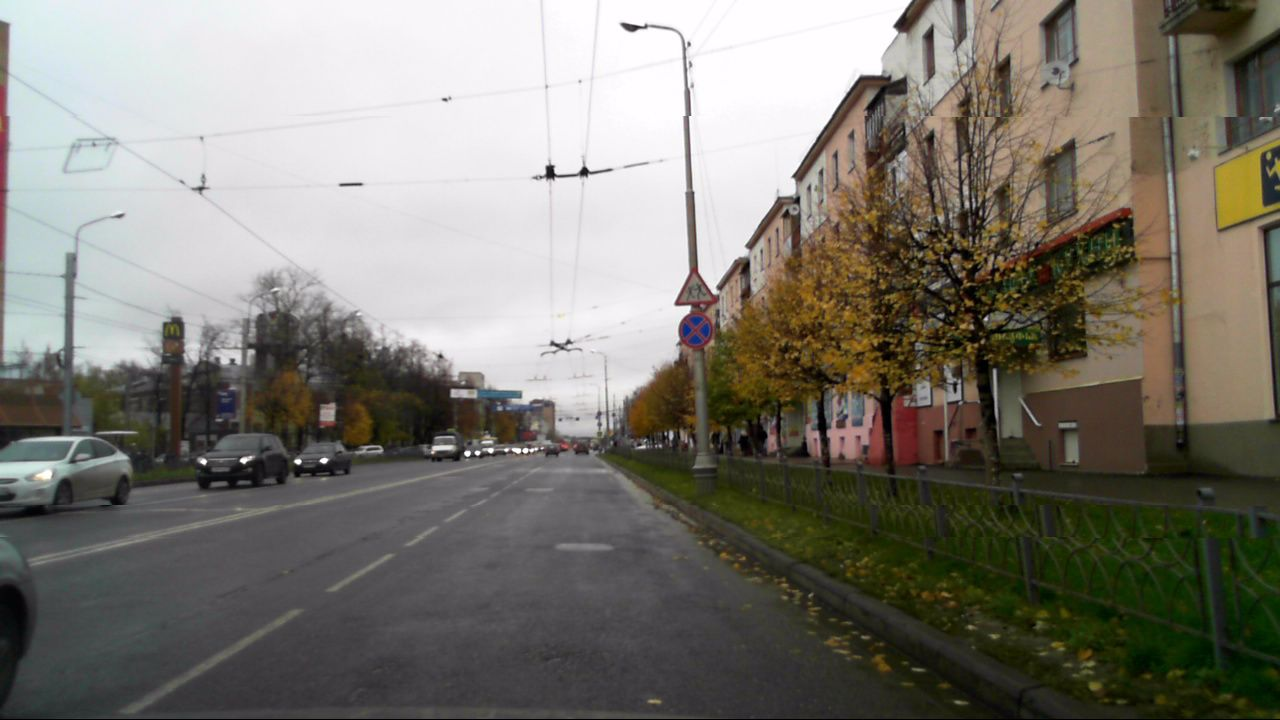No Parking: (679, 311, 712, 349)
